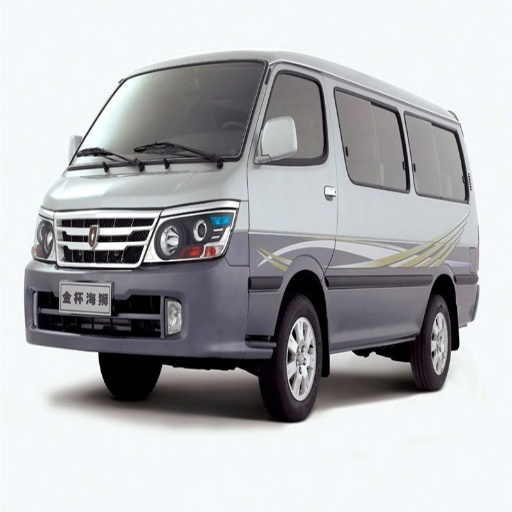front_bumper: (24, 202, 250, 360)
front_glass: (69, 62, 264, 169)
front_left_door: (252, 67, 339, 215)
trunk: (353, 299, 402, 336)
